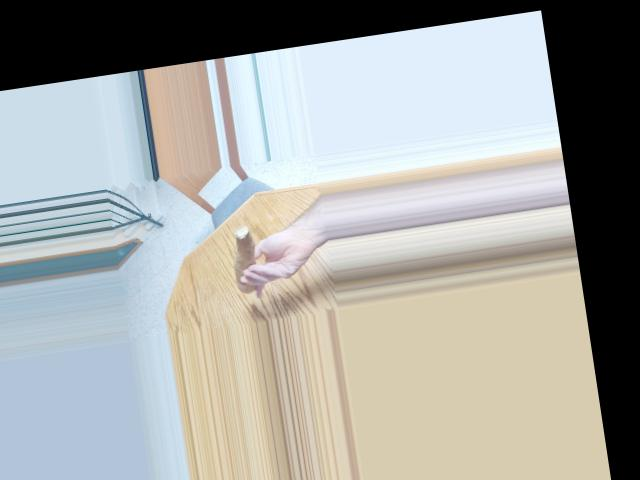sweet_potato: (225, 229, 265, 289)
